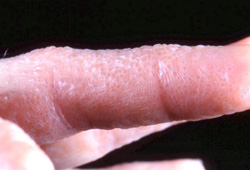Diseased: (19, 45, 212, 136)
